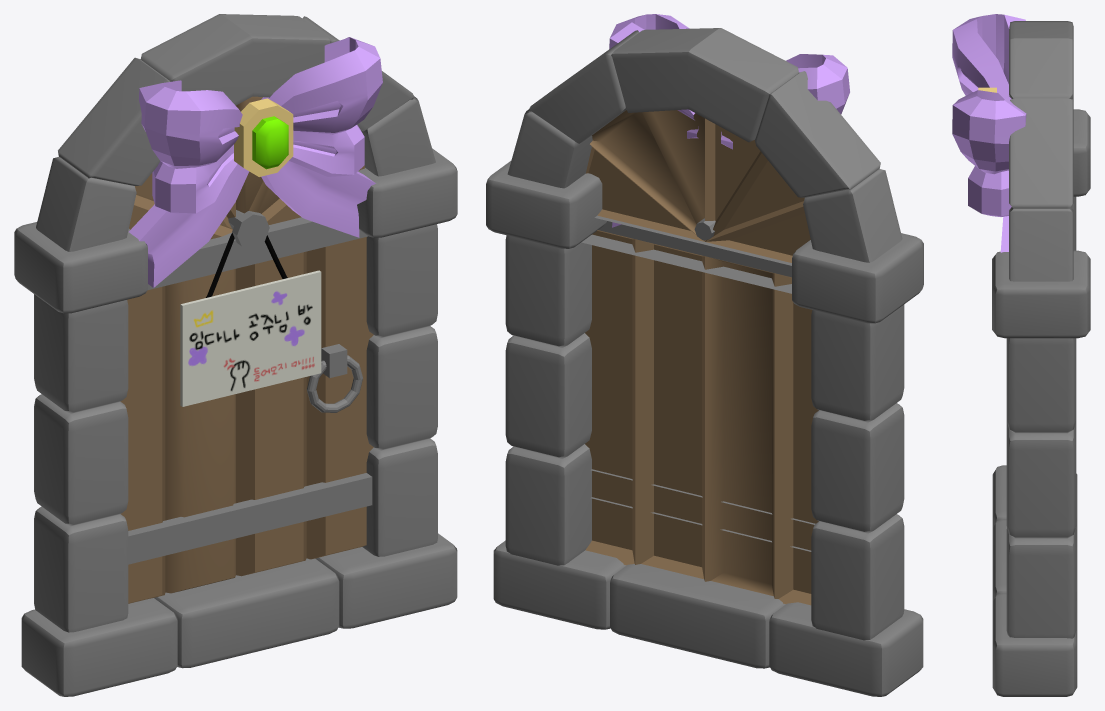
Rendered from door2.fbx.
3 renders of one model, left to right at view 1: azimuth 30°, elevation 25°; view 2: azimuth 150°, elevation 25°; view 3: azimuth 270°, elevation 25°, orthographic. The views are drawn at different scales.
Visible parts, largest first — view 1: door; view 2: door; view 3: door.
Boxes of the visible parts, x1,y1,x2,y2 form: door: (14, 14, 457, 696); door: (486, 14, 923, 696); door: (952, 14, 1090, 696).
Size of the model in its own units: 224 by 326 by 71.67.
